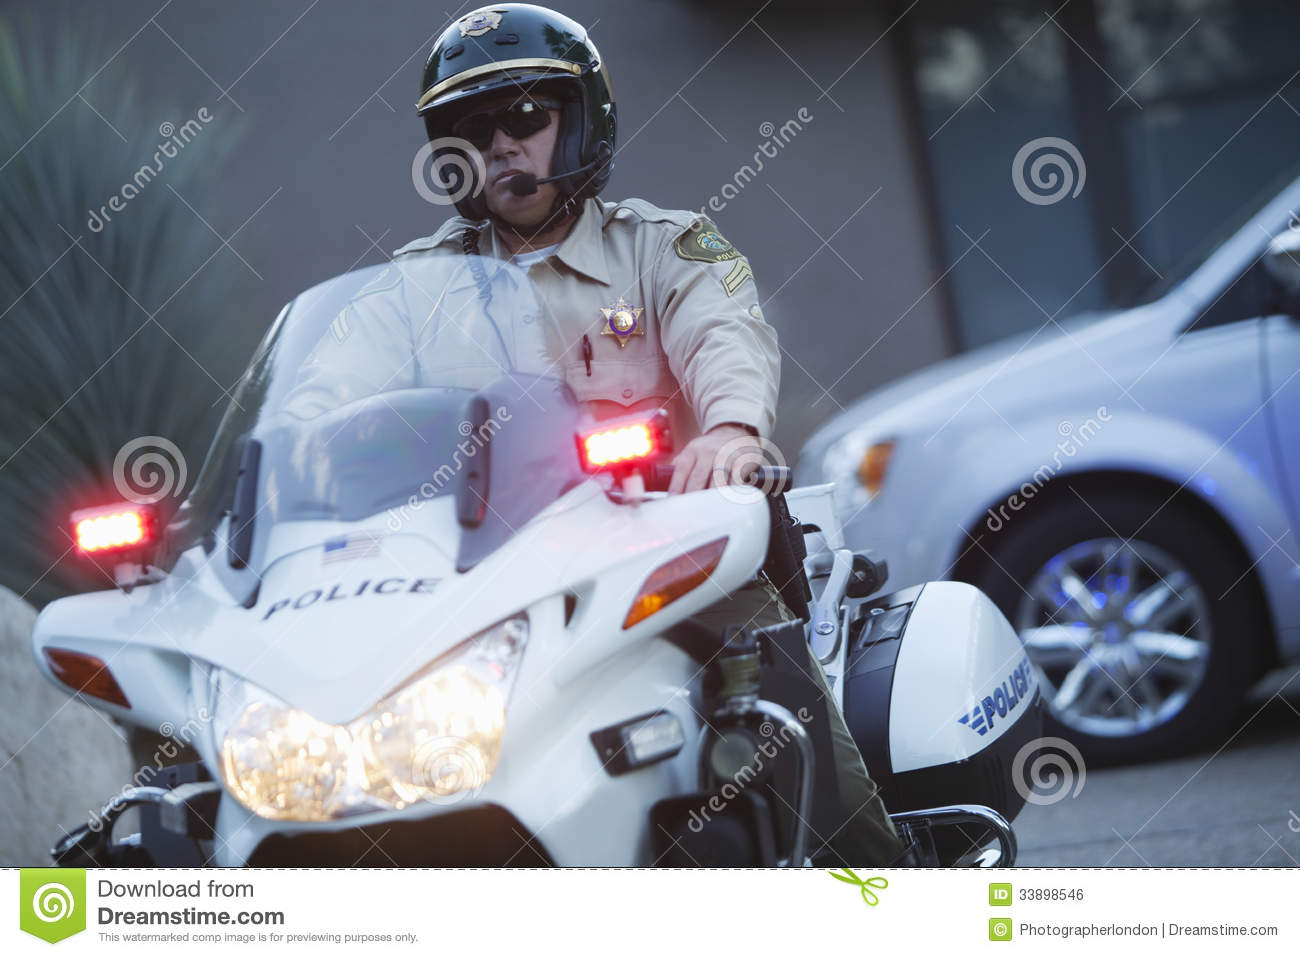helmet: (415, 23, 629, 202)
